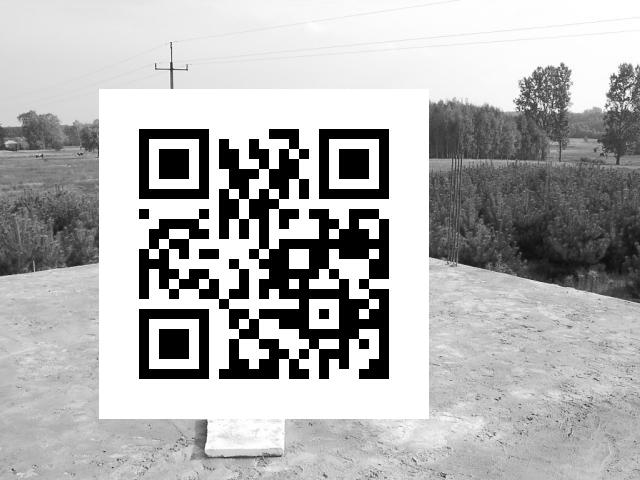qr_code: (99, 89, 428, 416)
